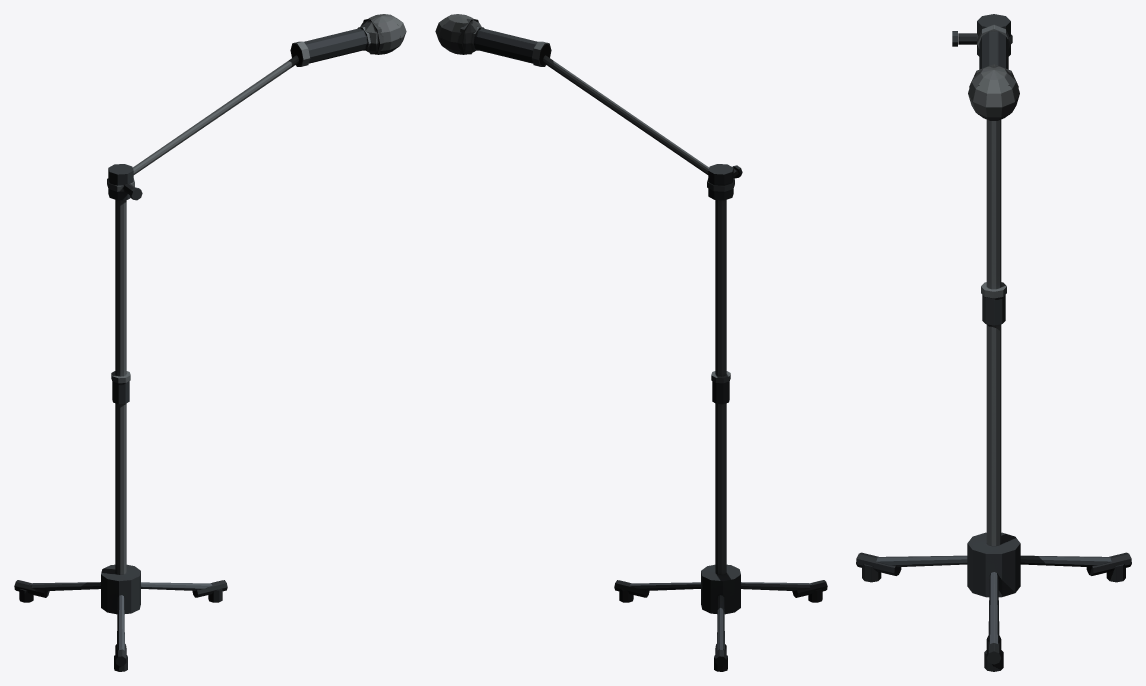
The model's file is 0-20261016-1900-ev035-r06-stage-micstand_baked.glb.
3 renders of one model, left to right at view 1: azimuth 30°, elevation 25°; view 2: azimuth 150°, elevation 25°; view 3: azimuth 270°, elevation 25°, orthographic. The views are drawn at different scales.
Parts seen in each view (by area): view 1: SW_Stage_MicStand; view 2: SW_Stage_MicStand; view 3: SW_Stage_MicStand.
Boxes of the visible parts, box(x1,y1,x2,y2) form: SW_Stage_MicStand: box(14, 14, 406, 671); SW_Stage_MicStand: box(435, 14, 827, 671); SW_Stage_MicStand: box(856, 14, 1131, 671).
Bounding box in the file's own units: 1.16 × 1.78 × 0.6348.
Materials: 1 (1 with a texture image).
